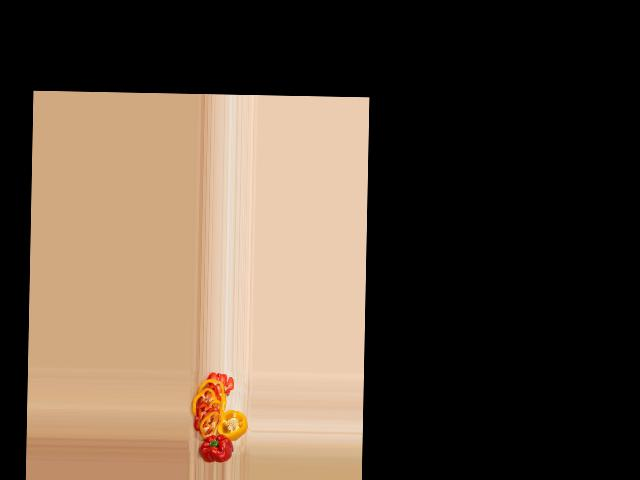bell_pepper: (217, 408, 249, 439)
